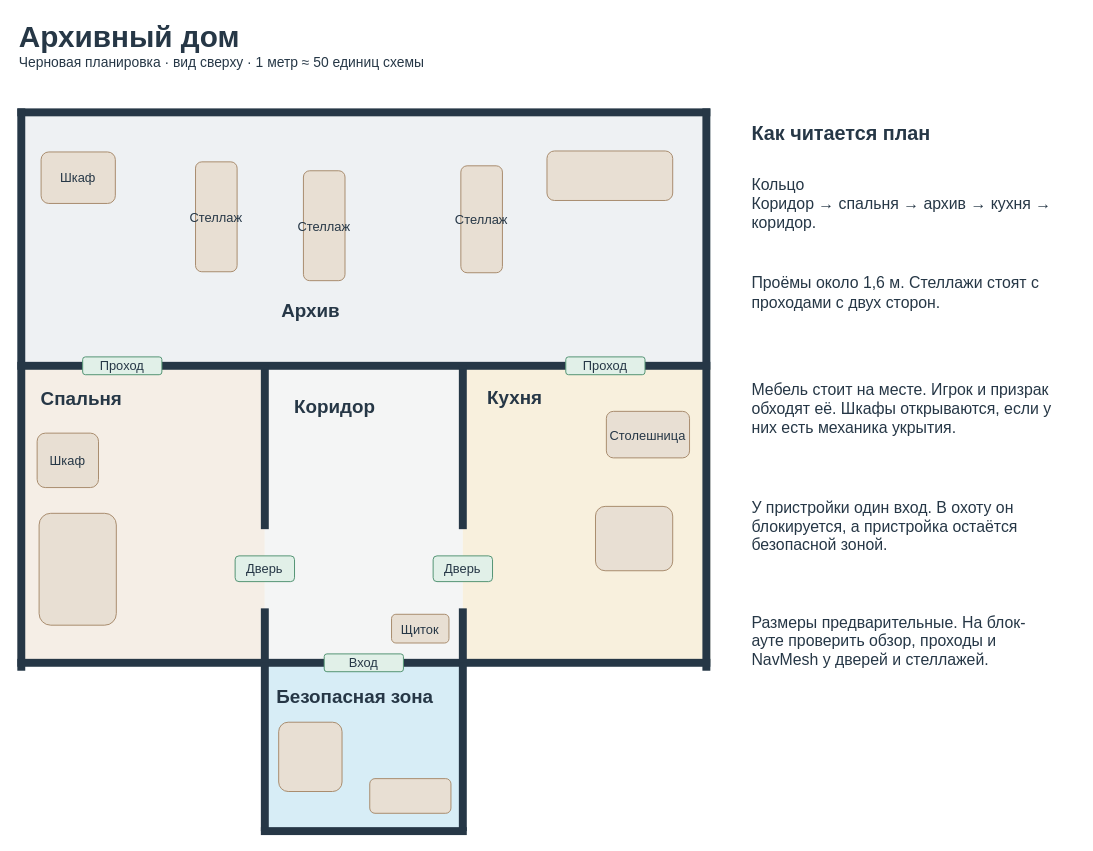
Image size: 1093x851. Some labels were removed from this diagram. The centre of each missing label's shape, as x and y in pixels:
Кровать: the point at 77,568
Приборы: the point at 310,756
Рабочий стол: the point at 609,175
Стол: the point at 633,538
Терминал: the point at 410,795
